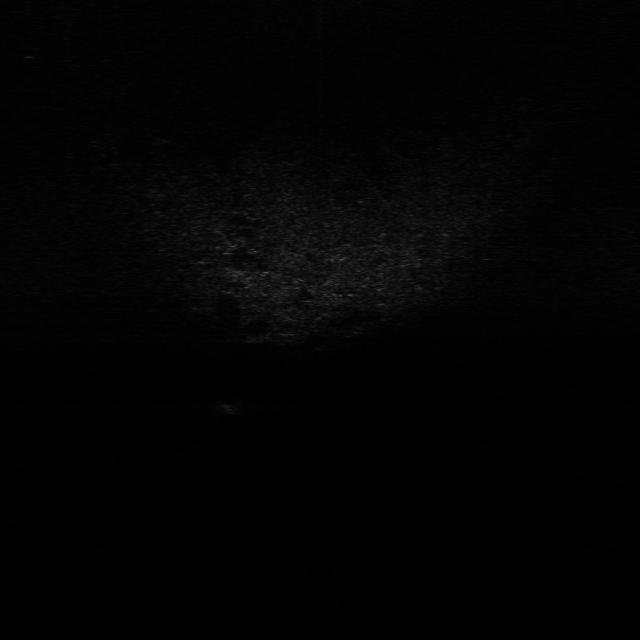cube: (213, 392, 246, 417)
